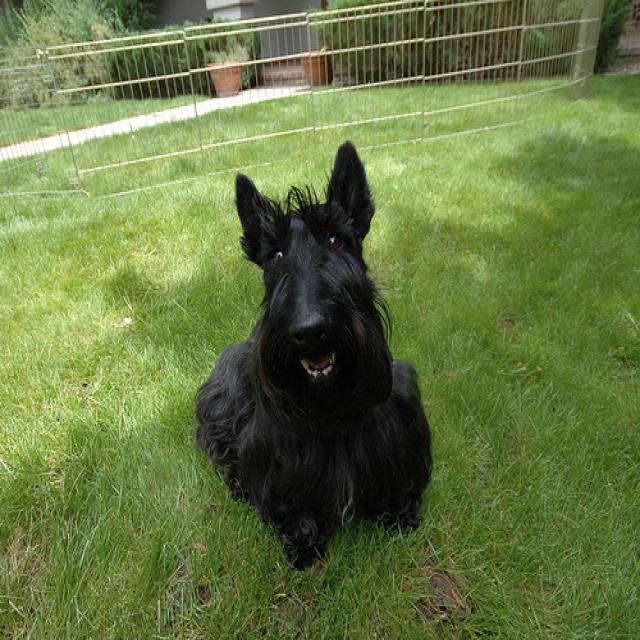dog-scottish_terrier: (184, 130, 438, 565)
